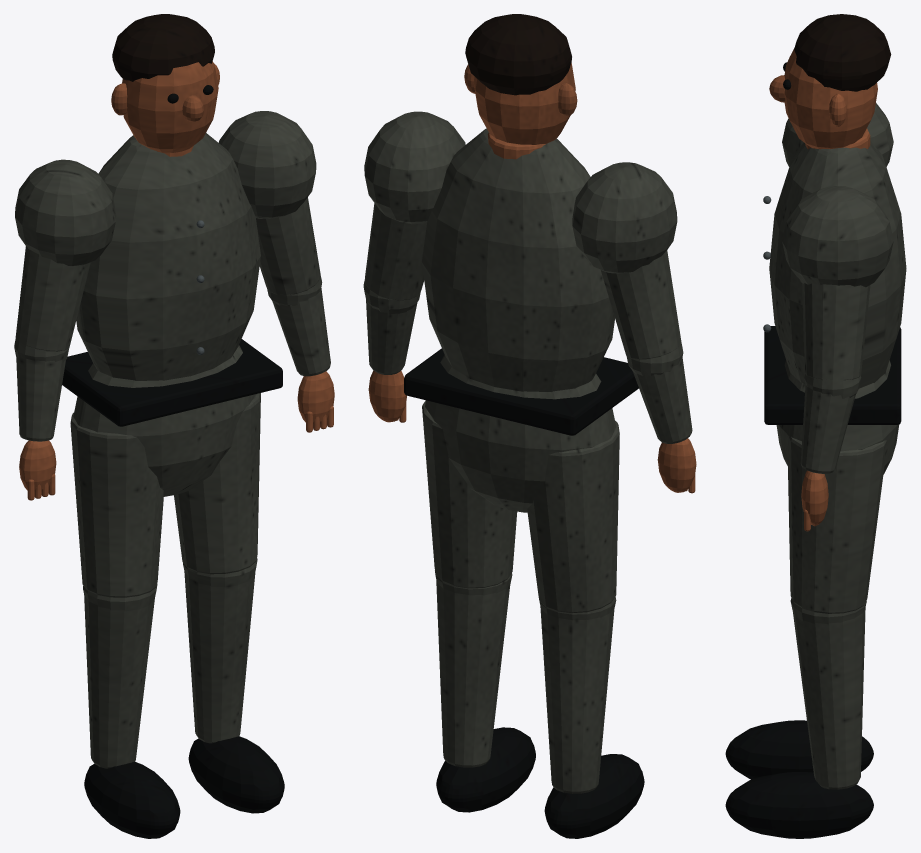
File: PROP-A5F252D0A464_lod0.glb
3 renders of one model, left to right at view 1: azimuth 30°, elevation 25°; view 2: azimuth 150°, elevation 25°; view 3: azimuth 270°, elevation 25°, orthographic. The views are drawn at different scales.
Visible parts, largest first — view 1: torso.003, thigh.003, calf.003, shoulder.003, shoe.003, upper_arm.003, pelvis.003, belt.003, forearm.003, head.003, hair_cap.003, hand.003 (+3 smaller); view 2: torso.003, thigh.003, calf.003, shoulder.003, pelvis.003, upper_arm.003, shoe.003, belt.003, hair_cap.003, forearm.003, head.003, hand.003 (+4 smaller); view 3: torso.003, thigh.003, shoe.003, shoulder.003, calf.003, upper_arm.003, hair_cap.003, belt.003, head.003, forearm.003, pelvis.003, hand.003 (+3 smaller).
Boxes of the visible parts, bbox=[...] form: torso.003: bbox=[76, 133, 260, 380]; thigh.003: bbox=[70, 393, 260, 597]; calf.003: bbox=[84, 572, 255, 768]; shoulder.003: bbox=[15, 111, 316, 266]; shoe.003: bbox=[84, 736, 284, 838]; upper_arm.003: bbox=[15, 197, 320, 351]; pelvis.003: bbox=[73, 345, 256, 496]; belt.003: bbox=[62, 339, 282, 426]; forearm.003: bbox=[16, 288, 330, 441]; head.003: bbox=[122, 61, 218, 152]; hair_cap.003: bbox=[112, 14, 214, 81]; hand.003: bbox=[19, 371, 334, 491]; torso.003: bbox=[422, 128, 614, 391]; thigh.003: bbox=[422, 400, 619, 612]; calf.003: bbox=[436, 581, 614, 793]; shoulder.003: bbox=[364, 111, 677, 273]; pelvis.003: bbox=[425, 355, 616, 512]; upper_arm.003: bbox=[365, 203, 681, 359]; shoe.003: bbox=[436, 727, 644, 838]; belt.003: bbox=[404, 348, 638, 435]; hair_cap.003: bbox=[465, 14, 571, 95]; forearm.003: bbox=[366, 300, 692, 443]; head.003: bbox=[473, 63, 575, 144]; hand.003: bbox=[368, 370, 696, 492]; torso.003: bbox=[769, 140, 906, 388]; thigh.003: bbox=[787, 436, 886, 613]; shoe.003: bbox=[725, 720, 873, 838]; shoulder.003: bbox=[782, 103, 893, 287]; calf.003: bbox=[793, 607, 865, 789]; upper_arm.003: bbox=[802, 283, 870, 380]; hair_cap.003: bbox=[794, 14, 891, 91]; belt.003: bbox=[764, 326, 901, 424]; head.003: bbox=[784, 48, 877, 149]; forearm.003: bbox=[800, 384, 855, 473]; pelvis.003: bbox=[776, 360, 899, 474]; hand.003: bbox=[801, 470, 828, 526].
Bounding box in the file's own units: 0.7175 × 1.71 × 0.3561.
5 materials, 5 textured.
